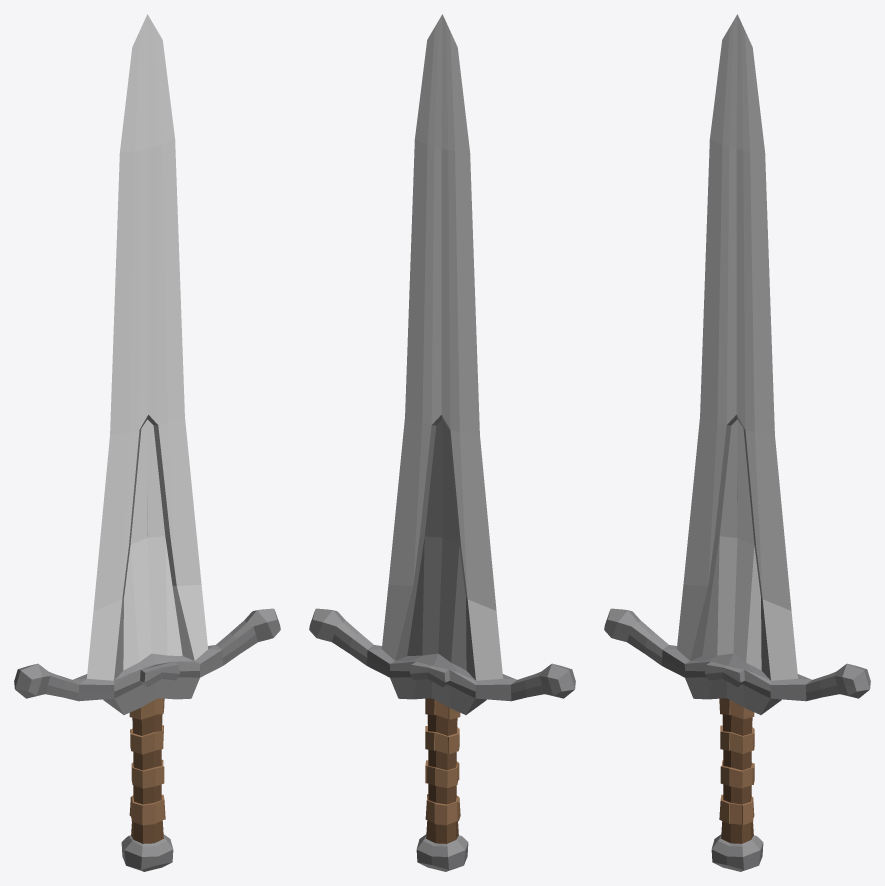
Rendered from sword_1.fbx.
The picture shows the model from 3 angles, left to right: view 1: azimuth 30°, elevation 25°; view 2: azimuth 150°, elevation 25°; view 3: azimuth 330°, elevation 25°; orthographic projection.
Parts seen in each view (by area): view 1: Sword Final; view 2: Sword Final; view 3: Sword Final.
Boxes of the visible parts, left/top/right/bottom form: Sword Final: left=14, top=14, right=280, bottom=871; Sword Final: left=309, top=14, right=575, bottom=871; Sword Final: left=604, top=14, right=870, bottom=871.
Size of the model in its own units: 52.34 by 161 by 10.22.
